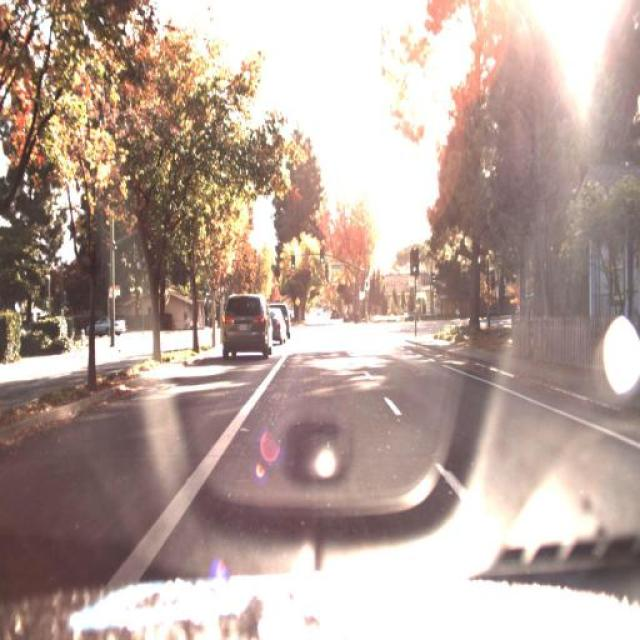car: (219, 288, 270, 366), (86, 308, 128, 337), (91, 312, 127, 338), (267, 302, 285, 348), (271, 304, 285, 346), (284, 305, 294, 343)
trafficLight-Green: (407, 247, 419, 279)
trafficLight-GreenLeft: (411, 250, 420, 278), (318, 243, 327, 268), (202, 286, 212, 305), (289, 255, 297, 277), (317, 246, 325, 266)
trafficLight-Red: (290, 255, 298, 273)
